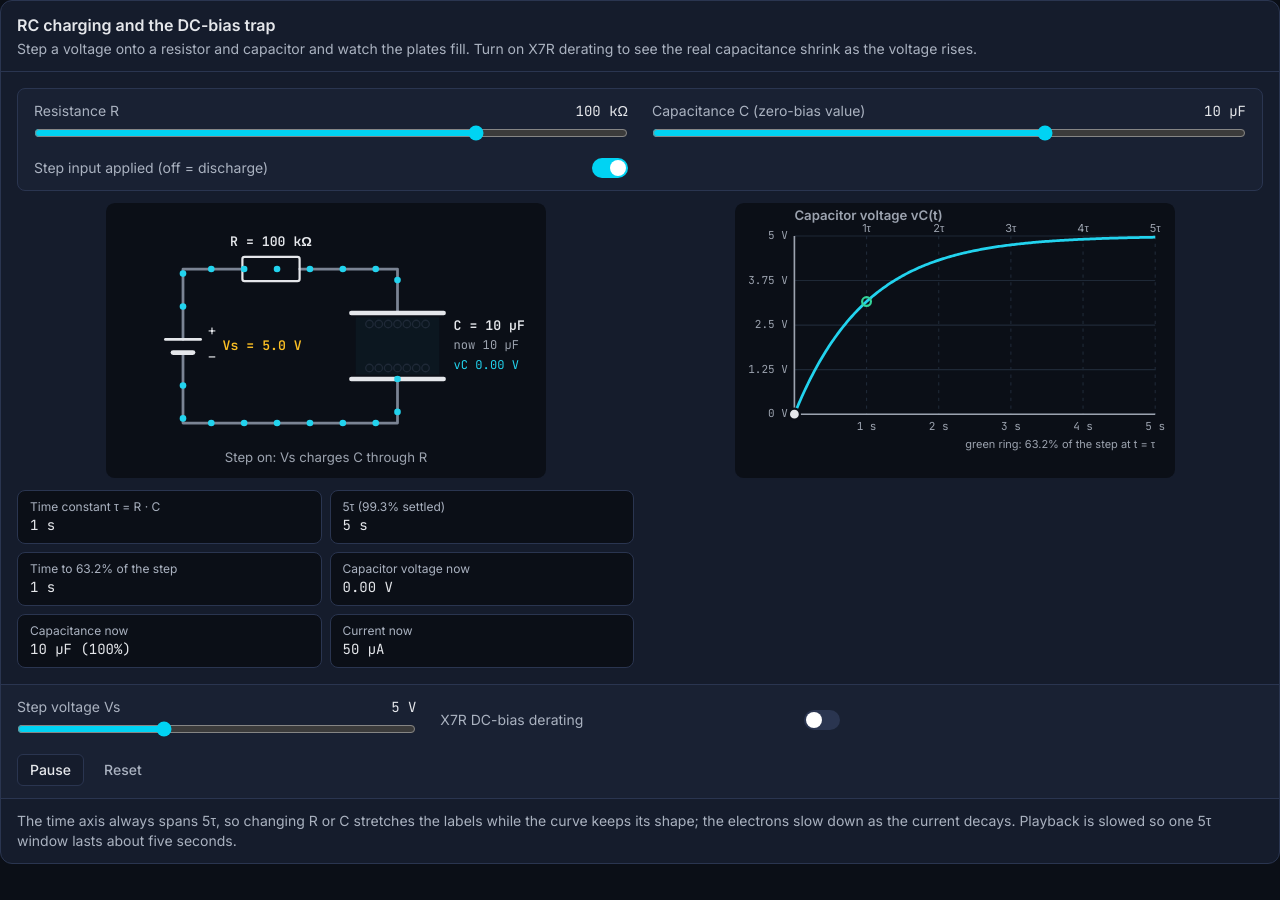
it: RcCharging › shows the capacitance-versus-bias plot only while derating is on, and follows the voltage rating
Expected: the text "Capacitance vs DC bias" is not shown
What coordinates should you click on to do the following:
click the switch labelled "X7R DC-bias derating"
I would click on:
 (512, 719)
Its box is [440, 697, 840, 742].
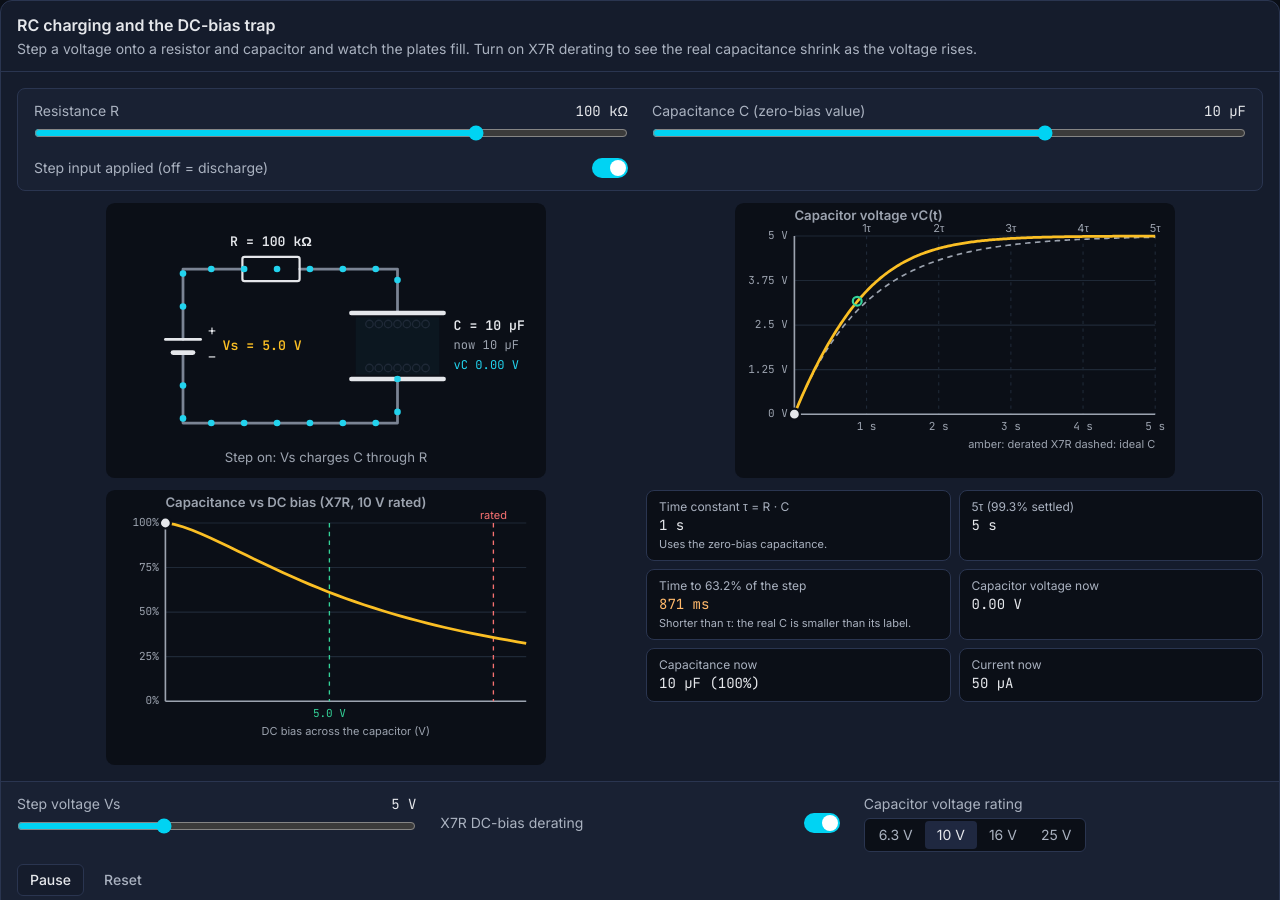
Now the text "Capacitance vs DC bias (X7R, 10 V rated)" is shown, box [165, 494, 426, 510]
What coordinates should you click on to do the following:
click the radio button labelled "25 V"
I would click on:
 (1056, 835)
Its box is [1029, 821, 1083, 849].
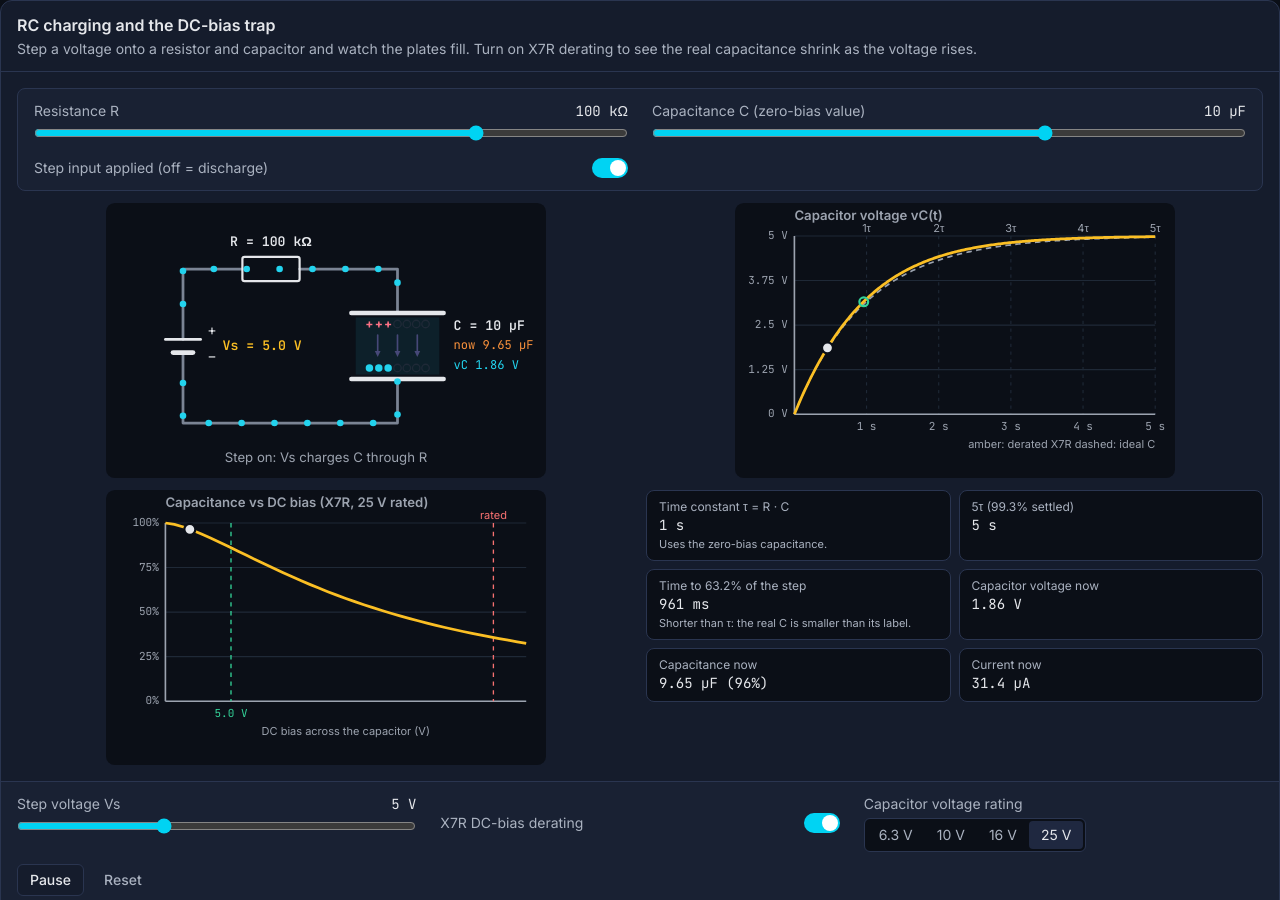
Now the text "Capacitance vs DC bias (X7R, 25 V rated)" is shown, box [165, 494, 428, 510]
